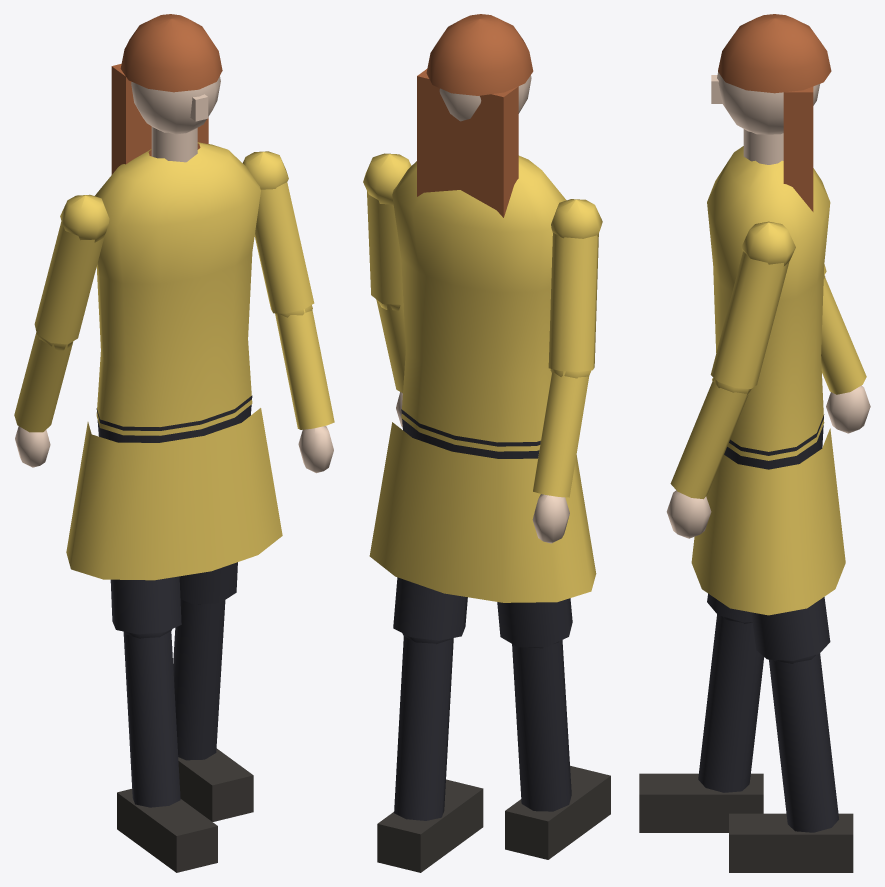
Rendered from person_g.glb.
3 views of the same model, side by side, from view 1: azimuth 30°, elevation 25°; view 2: azimuth 150°, elevation 25°; view 3: azimuth 270°, elevation 25° (orthographic). The views are drawn at different scales.
Visible parts, largest first — view 1: person; view 2: person; view 3: person.
Part boxes in pixels (<box>): person: <box>14,14,334,872</box>; person: <box>363,14,610,872</box>; person: <box>639,14,870,872</box>.
Bounding box in the file's own units: 0.0293 × 0.0914 × 0.0233.
